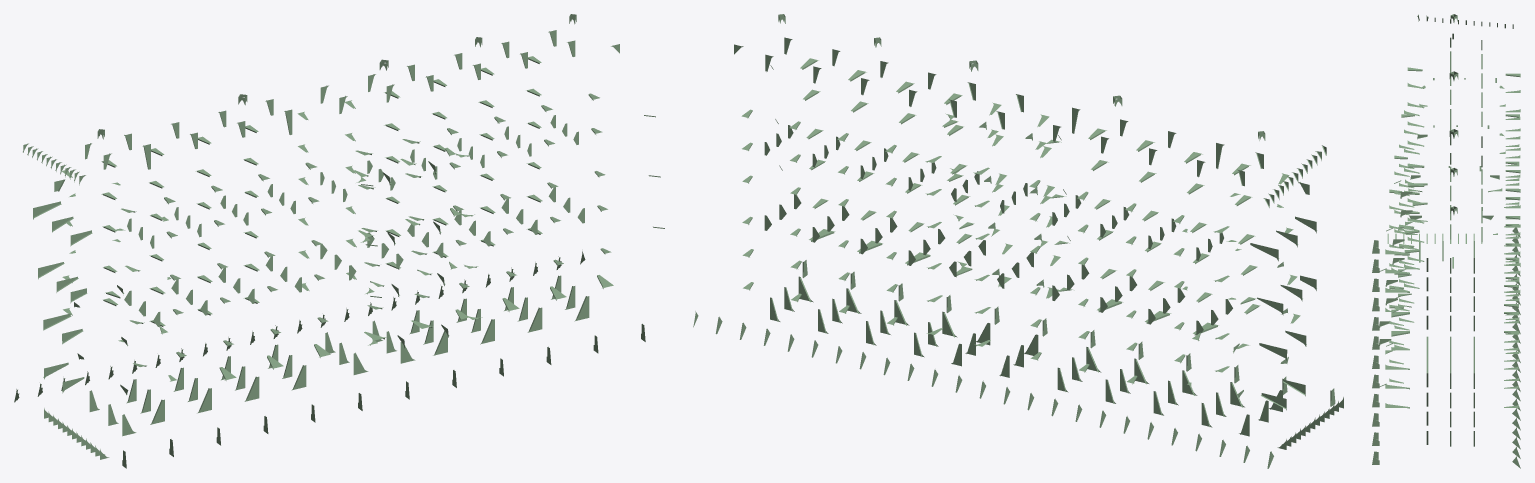
Rendered from NO_3_WING_CARGO_OIL_TK_PS.glb.
3 renders of one model, left to right at view 1: azimuth 30°, elevation 25°; view 2: azimuth 150°, elevation 25°; view 3: azimuth 270°, elevation 25°, orthographic. The views are drawn at different scales.
Size of the model in its own units: 62.88 by 31.5 by 17.16.
